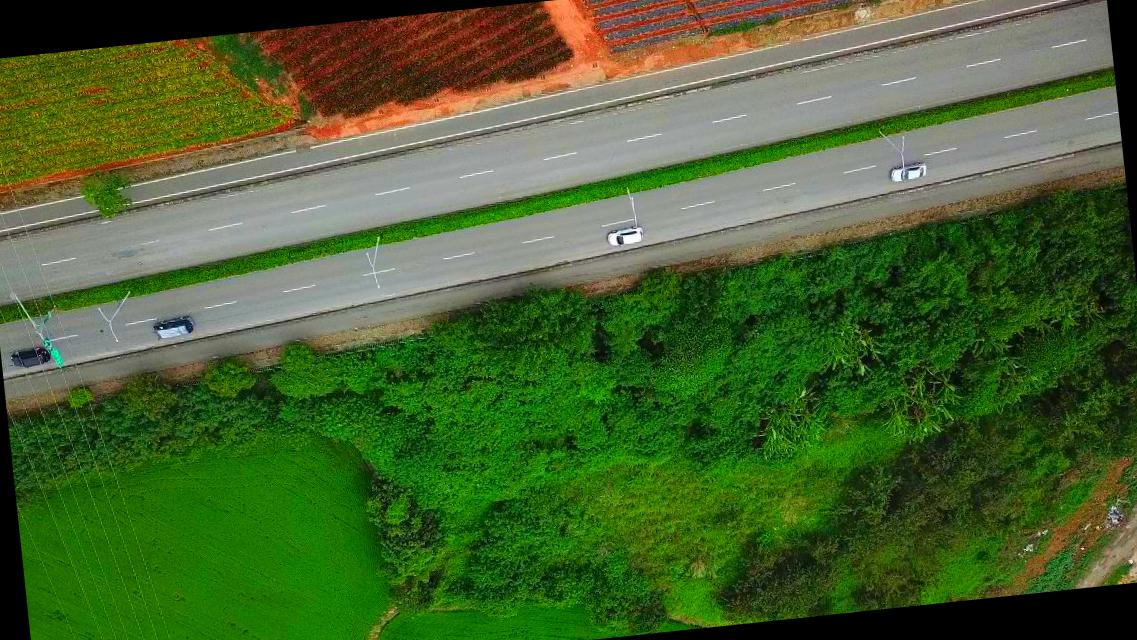vehicle: (150, 316, 196, 342), (604, 224, 646, 248), (9, 346, 51, 370), (888, 160, 928, 183)
